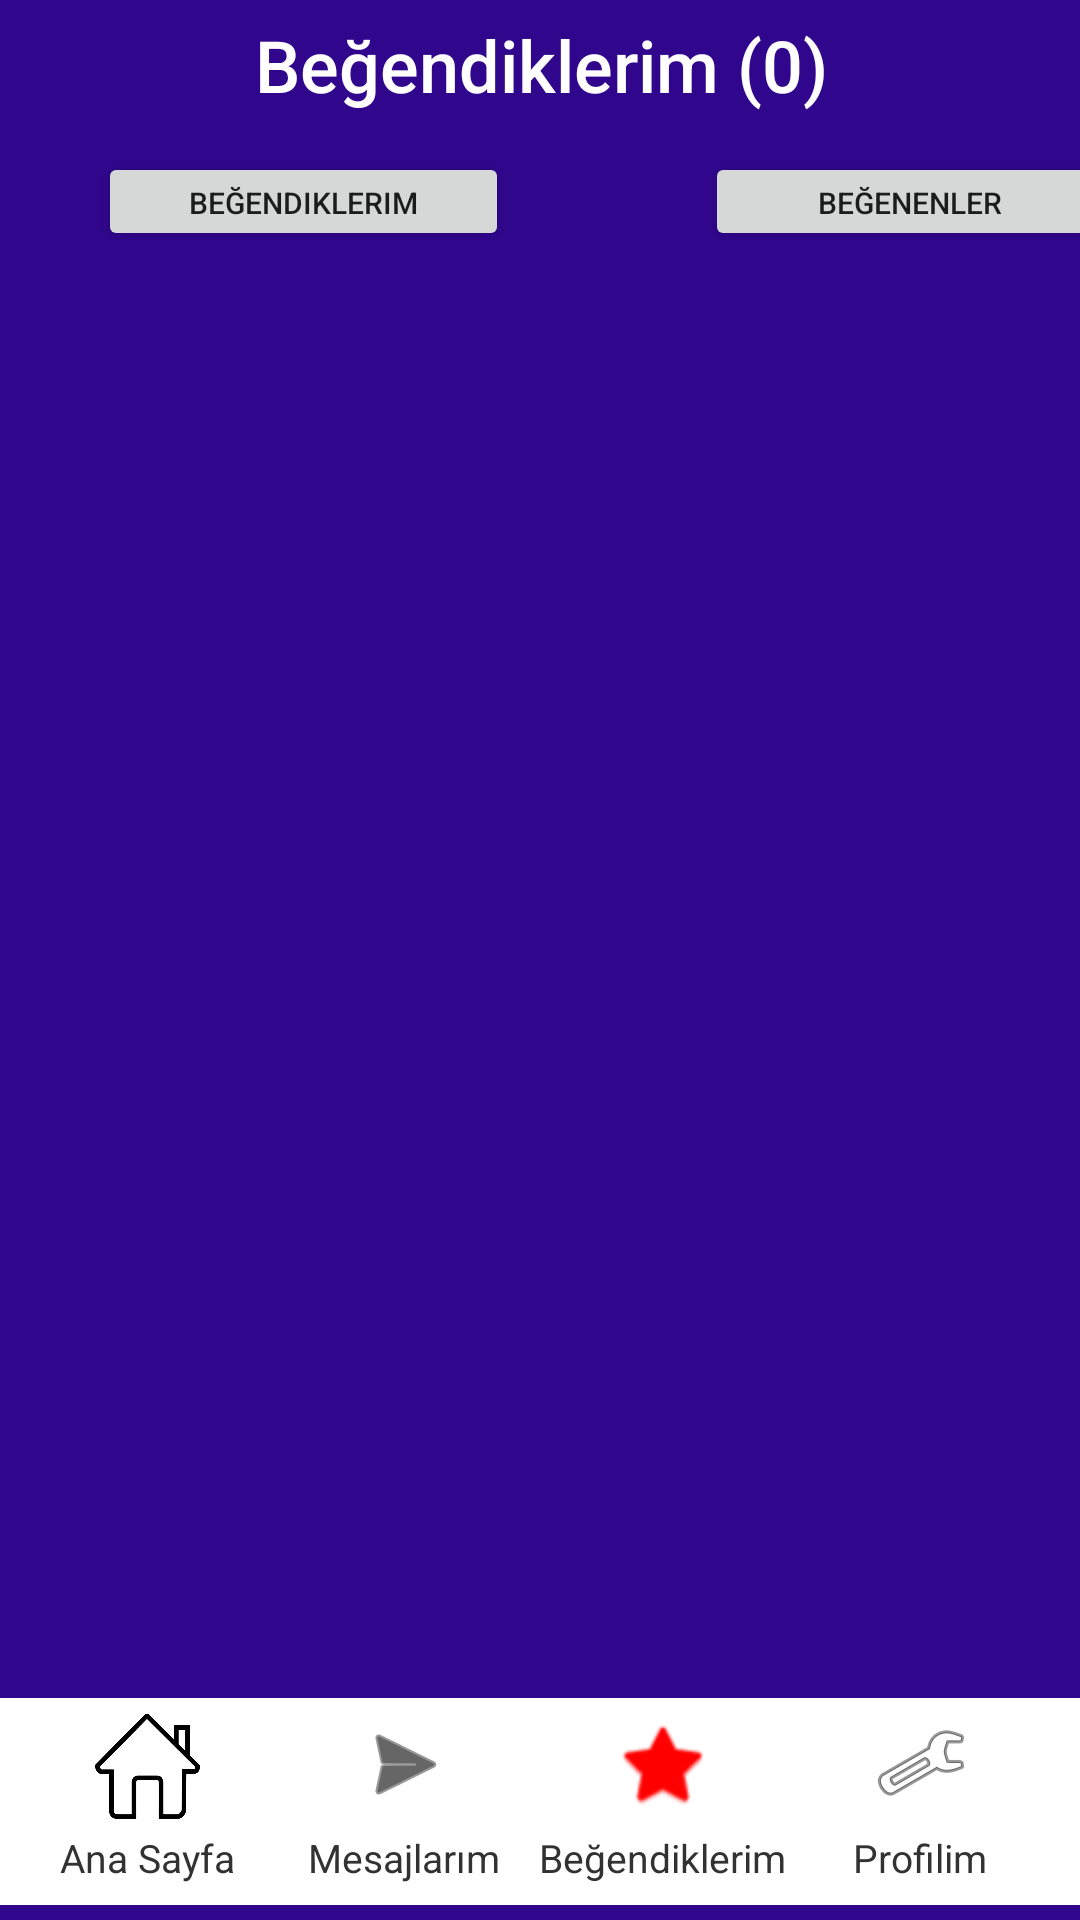

Icons on this 1080px×1920px Android screen, each with its box as rect(x1, y1, x2, y2):
manage: rect(878, 1730, 964, 1796)
send: rect(375, 1734, 437, 1795)
star: rect(623, 1726, 703, 1804)
